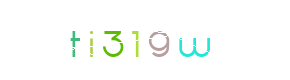1: (105, 0, 185, 80)
3: (75, 0, 155, 80)
9: (106, 0, 186, 80)
I: (74, 0, 154, 80)
T: (34, 0, 114, 80)
W: (154, 0, 234, 80)
